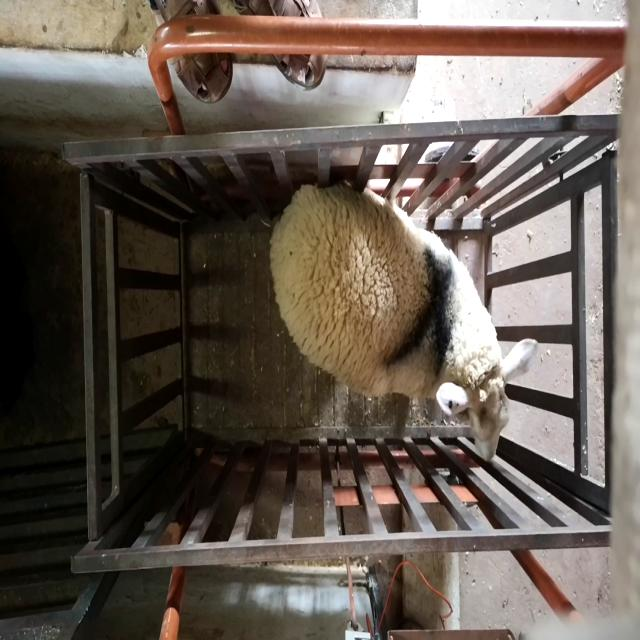sheep: (269, 183, 538, 464)
